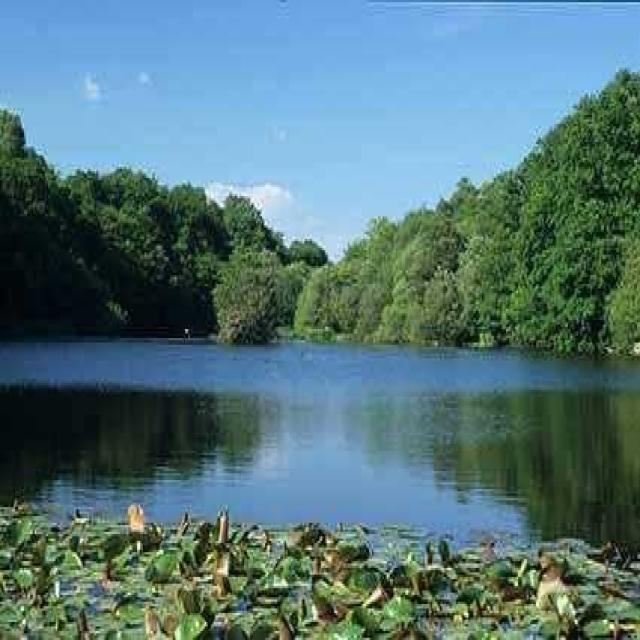Ponds: (6, 341, 635, 576)
